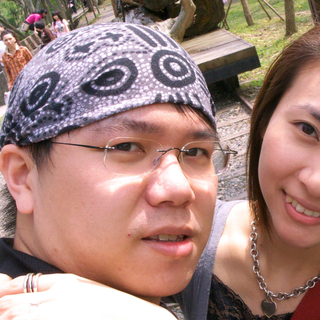eye: (285, 114, 320, 145), (104, 136, 148, 159), (179, 141, 211, 163)
